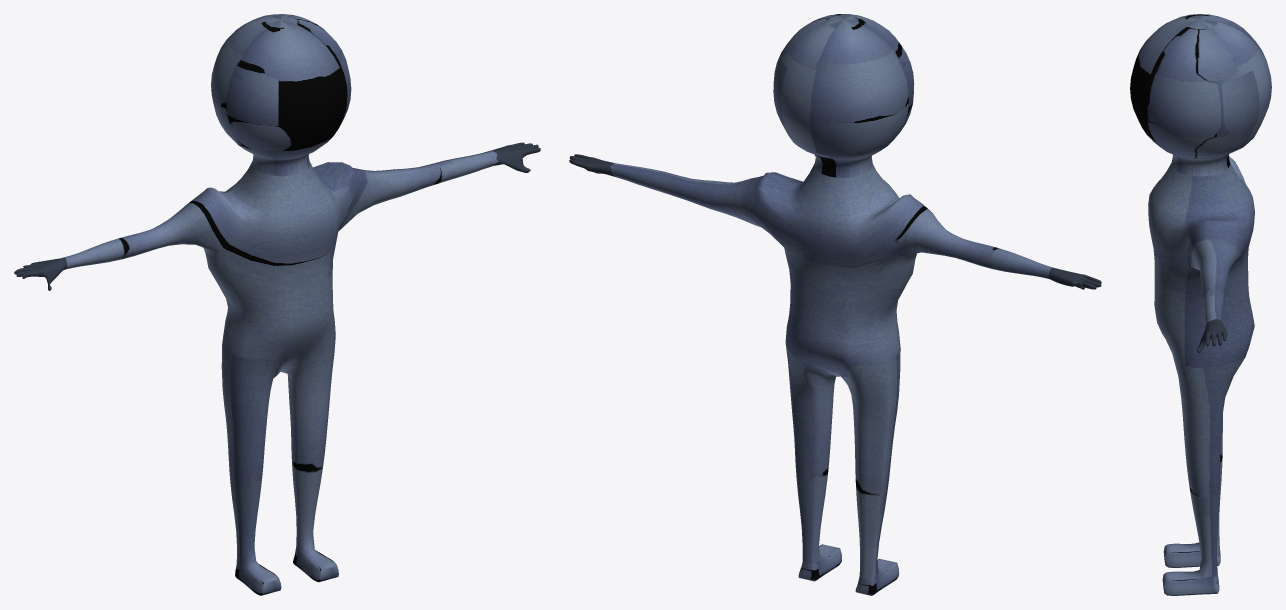
Rendered from little guy.obj.
The picture shows the model from 3 angles, left to right: view 1: azimuth 30°, elevation 25°; view 2: azimuth 150°, elevation 25°; view 3: azimuth 270°, elevation 25°; orthographic projection.
Visible parts, largest first — view 1: polySurface6; view 2: polySurface6; view 3: polySurface6.
Part boxes in pixels (x1=…): polySurface6: x1=14, y1=14, x2=540, y2=595; polySurface6: x1=569, y1=14, x2=1101, y2=595; polySurface6: x1=1130, y1=14, x2=1271, y2=595.
Bounding box in the file's own units: 6.35 × 6.42 × 1.49.
